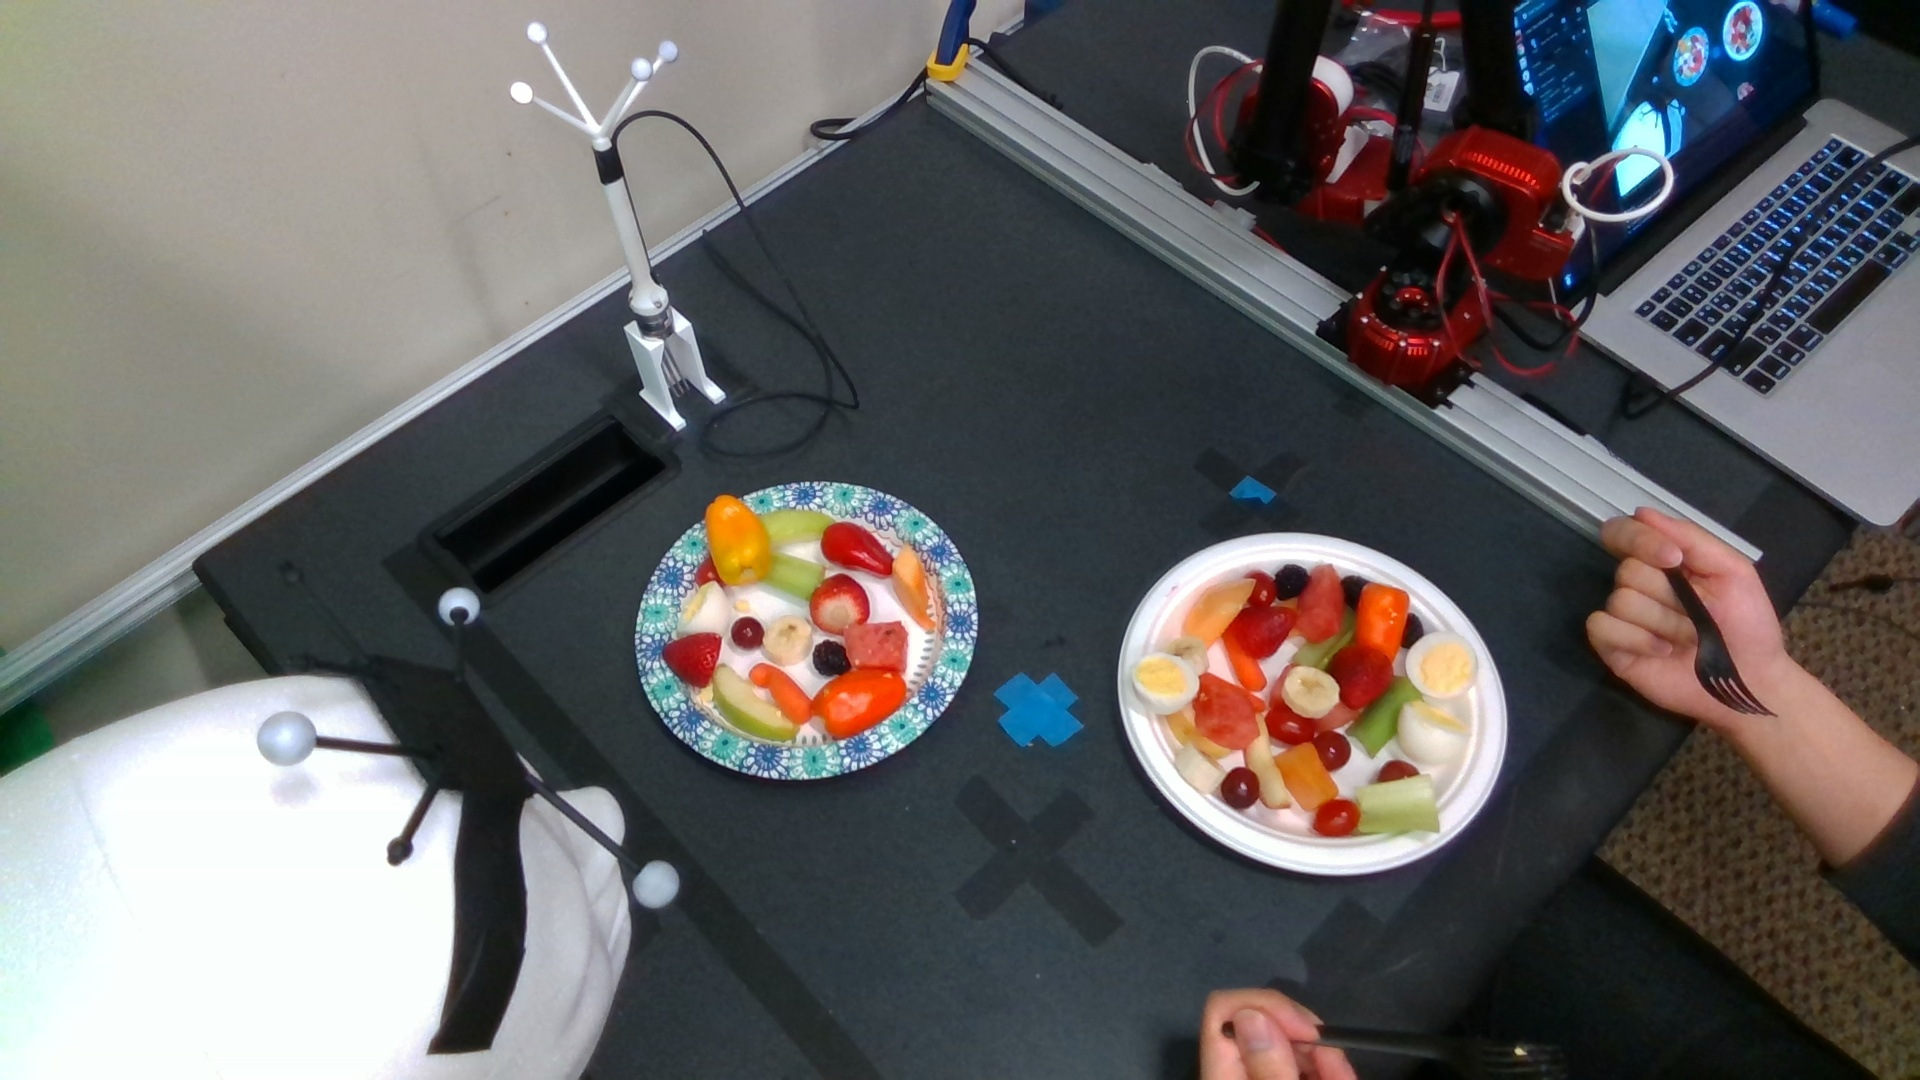apple: (712, 663, 799, 740), (1245, 713, 1291, 808), (757, 509, 835, 549)
banana: (1282, 667, 1338, 717), (1174, 744, 1226, 793), (762, 615, 812, 665)
bell_pepper: (812, 669, 905, 738), (705, 495, 771, 587), (822, 522, 894, 578), (1357, 582, 1408, 658)
blackberry: (814, 640, 851, 676), (1274, 563, 1308, 601)
cantalope: (1185, 578, 1257, 647), (1274, 742, 1338, 810), (893, 545, 935, 630)
carrot: (749, 663, 812, 723), (1228, 644, 1265, 690)
celery: (1345, 676, 1422, 758), (1356, 775, 1440, 833), (754, 551, 824, 597)
cherry_tomato: (1311, 800, 1360, 836), (1266, 708, 1313, 742), (1246, 572, 1275, 605)
egg: (1396, 699, 1469, 767), (1408, 633, 1478, 698), (1131, 653, 1197, 713), (676, 582, 732, 636)
grape_purple: (1221, 766, 1259, 808), (1313, 732, 1350, 770), (731, 616, 765, 650)
melon: (1193, 673, 1261, 749), (1296, 564, 1344, 644), (844, 621, 909, 671)
strawberry: (810, 574, 870, 636), (1332, 646, 1394, 705), (662, 633, 721, 687), (1240, 605, 1296, 659)
